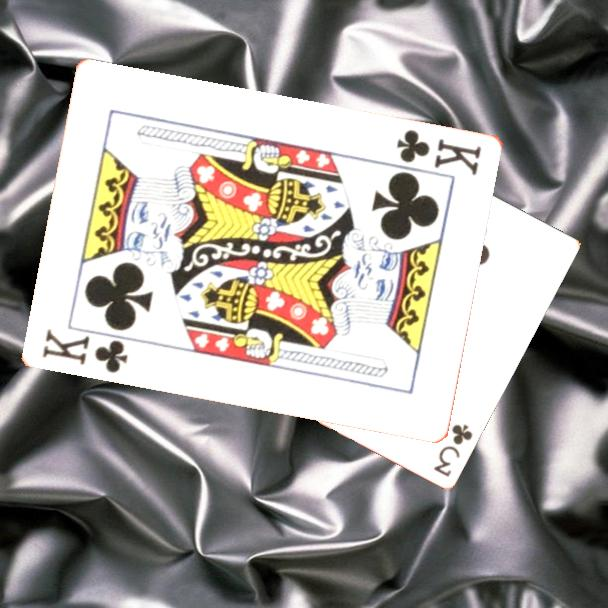c03: (430, 420, 476, 479)
c13: (393, 125, 485, 178), (39, 325, 132, 376)
